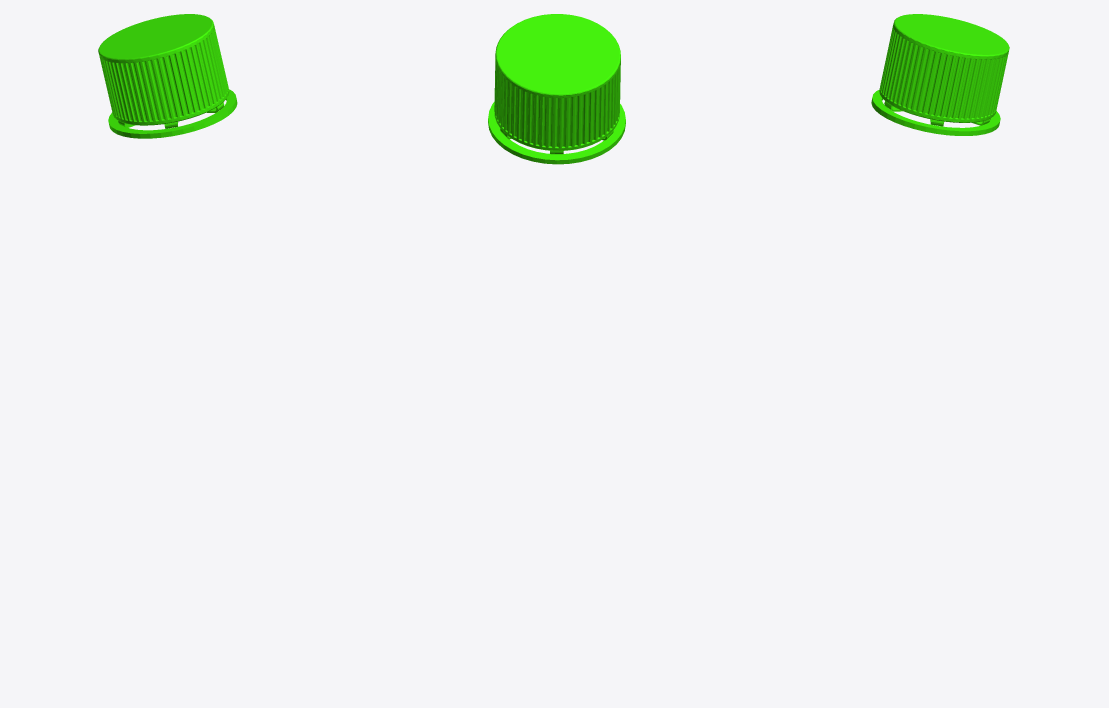
Rendered from bend_low_1.obj.
The picture shows the model from 3 angles, left to right: view 1: azimuth 30°, elevation 25°; view 2: azimuth 150°, elevation 25°; view 3: azimuth 270°, elevation 25°; orthographic projection. The views are drawn at different scales.
Visible parts, largest first — view 1: model; view 2: model; view 3: model.
Part boxes in pixels (<box>): model: <box>98,14,237,138</box>; model: <box>488,14,625,164</box>; model: <box>871,14,1009,135</box>.
Size of the model in its own units: 0.1276 by 0.2653 by 0.1303.
1 material, 1 textured.
